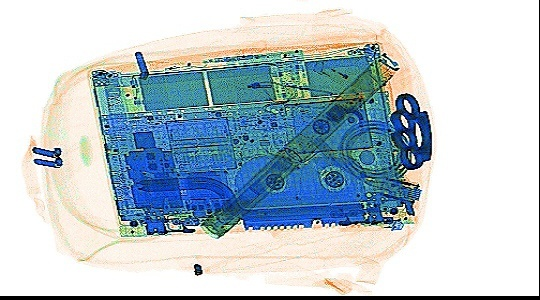lighter: (303, 54, 373, 97), (335, 216, 405, 232)
